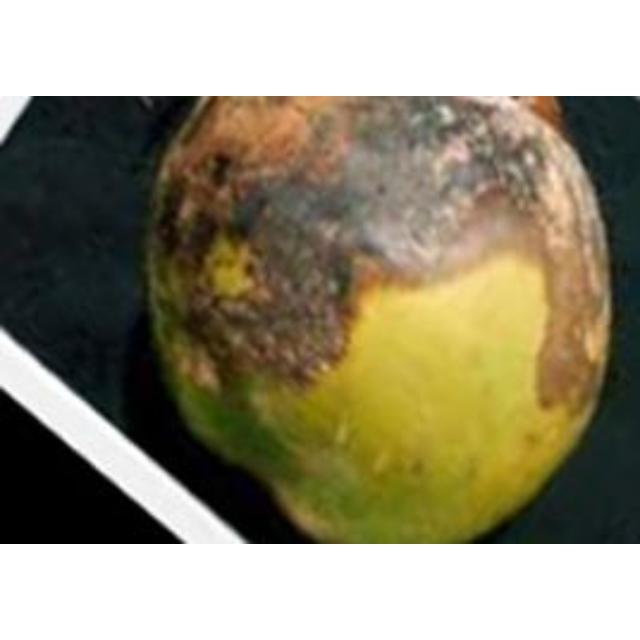damaged: (143, 96, 611, 543)
